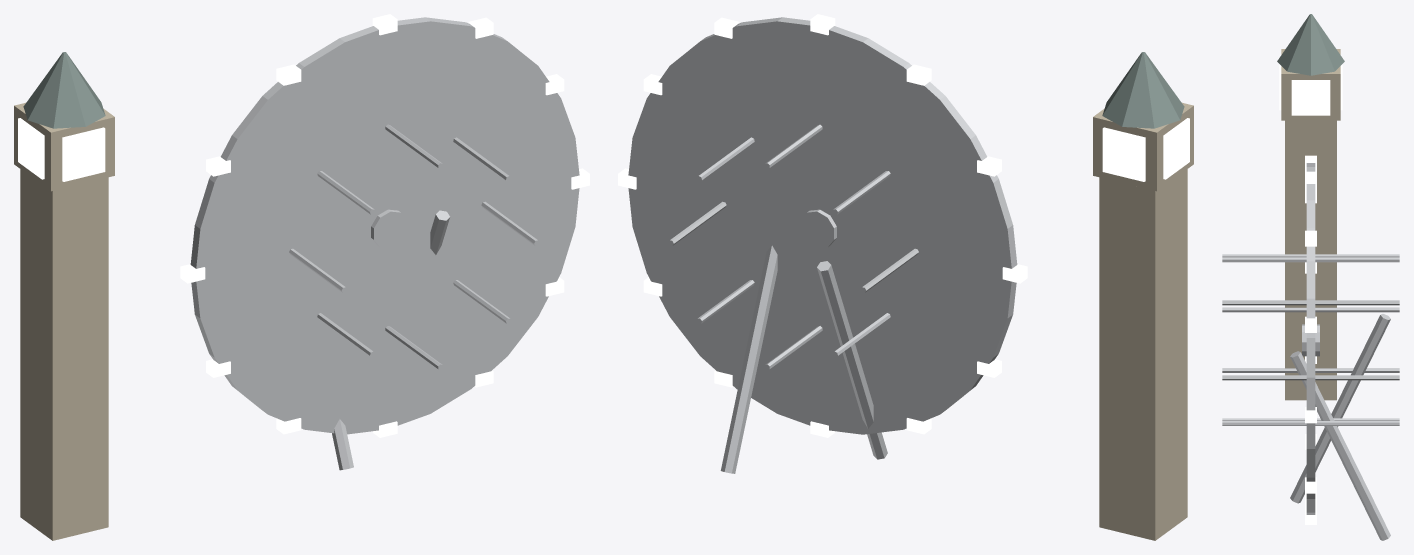
The model's file is bigben.glb.
The picture shows the model from 3 angles, left to right: view 1: azimuth 30°, elevation 25°; view 2: azimuth 150°, elevation 25°; view 3: azimuth 270°, elevation 25°; orthographic projection. The views are drawn at different scales.
Visible parts, largest first — view 1: eye_rim, bb_shaft, bb_spire, bb_belfry, bb_ck-1, bb_ck2-1, eye_hub, eye_l-1; view 2: eye_rim, bb_shaft, bb_spire, eye_l1, bb_belfry, eye_l-1, bb_ck1, bb_ck2-1, eye_hub; view 3: bb_shaft, eye_rim, bb_spire, eye_l1, eye_l-1, bb_belfry, bb_ck21, eye_s0, eye_s1, eye_s2, eye_s4, eye_s7 (+4 smaller).
Part boxes in pixels (<box>): eye_rim: <box>190,17,579,434</box>; bb_shaft: <box>20,169,108,540</box>; bb_spire: <box>23,52,105,128</box>; bb_belfry: <box>14,102,114,191</box>; bb_ck-1: <box>62,127,105,181</box>; bb_ck2-1: <box>18,118,44,179</box>; eye_hub: <box>371,209,407,248</box>; eye_l-1: <box>332,419,353,470</box>; eye_rim: <box>628,17,1017,434</box>; bb_shaft: <box>1099,169,1187,540</box>; bb_spire: <box>1102,52,1184,128</box>; eye_l1: <box>720,245,777,473</box>; bb_belfry: <box>1093,102,1193,191</box>; eye_l-1: <box>817,261,887,459</box>; bb_ck1: <box>1102,127,1145,181</box>; bb_ck2-1: <box>1163,118,1189,179</box>; eye_hub: <box>800,209,836,248</box>; bb_shaft: <box>1285,120,1336,400</box>; eye_rim: <box>1306,163,1315,514</box>; bb_spire: <box>1277,14,1344,75</box>; eye_l1: <box>1290,351,1390,540</box>; eye_l-1: <box>1290,314,1390,503</box>; bb_belfry: <box>1281,49,1340,120</box>; bb_ck21: <box>1291,80,1330,115</box>; eye_s0: <box>1222,375,1399,380</box>; eye_s1: <box>1222,307,1399,312</box>; eye_s2: <box>1222,257,1399,262</box>; eye_s4: <box>1222,300,1399,305</box>; eye_s7: <box>1222,421,1399,425</box>.
Bounding box in the file's own units: 69.7 × 57.02 × 24.
